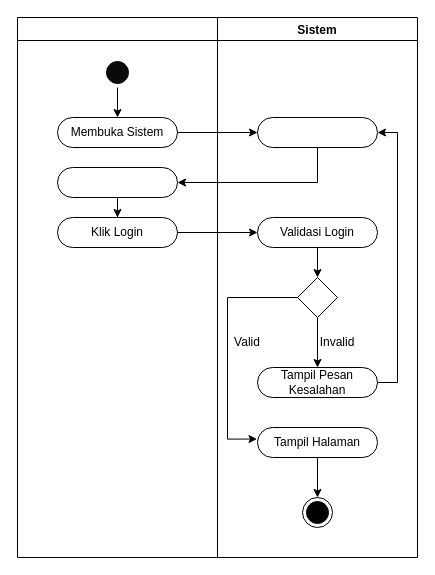
Some shapes in this 435 by 575 pixel diagram are drawn without their labels. The shapes that lost their labels are listed below. From the top down, each one's box as (x1, y1, x2, y2) in pixels, then its label:
(256, 116, 378, 148): Tampil Form Login
(56, 166, 178, 198): Input Data Login
(16, 16, 218, 558): Pengguna
